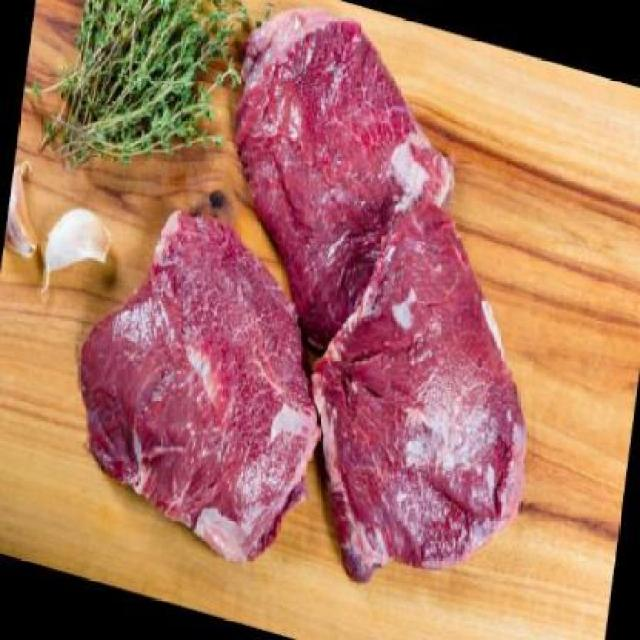beaf: (286, 167, 556, 624), (57, 184, 346, 584), (203, 0, 474, 392)
